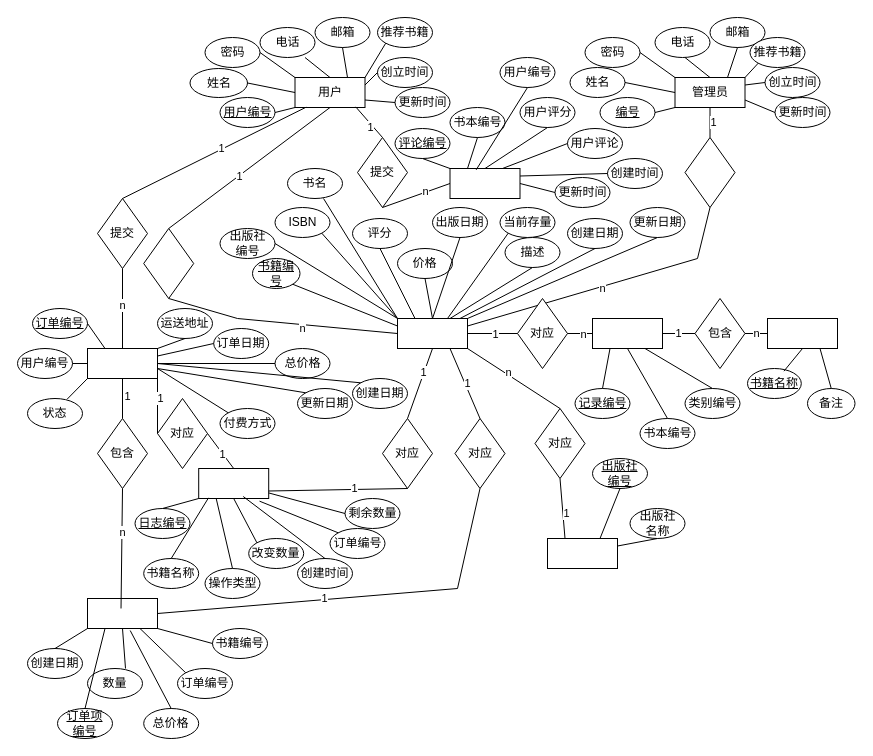
This 873x756 diagram has some shape labels left out. Each missing label, with the box of its shape:
书籍: (396, 318, 468, 348)
修改: (684, 136, 735, 208)
出版社: (546, 538, 618, 568)
图书 分类记录: (592, 318, 662, 348)
图书类别: (766, 318, 838, 348)
库存日志: (198, 468, 269, 498)
订单: (86, 348, 158, 378)
订单项: (86, 598, 158, 628)
评论: (449, 168, 520, 198)
购买: (143, 228, 194, 298)
